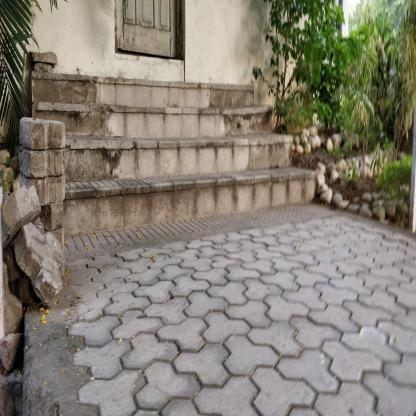stairs: (92, 86, 244, 242)
